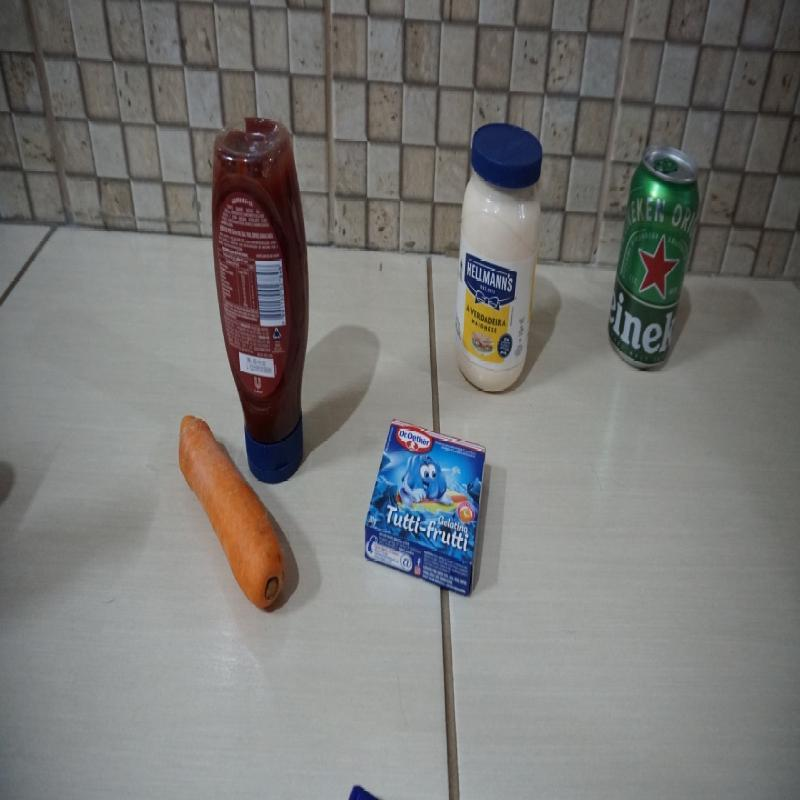Beer can: (605, 143, 702, 375)
Carrot: (178, 415, 288, 612)
Gelatine: (365, 416, 487, 597)
Ketchup: (212, 115, 310, 486)
Mayonnaise: (456, 119, 545, 400)
